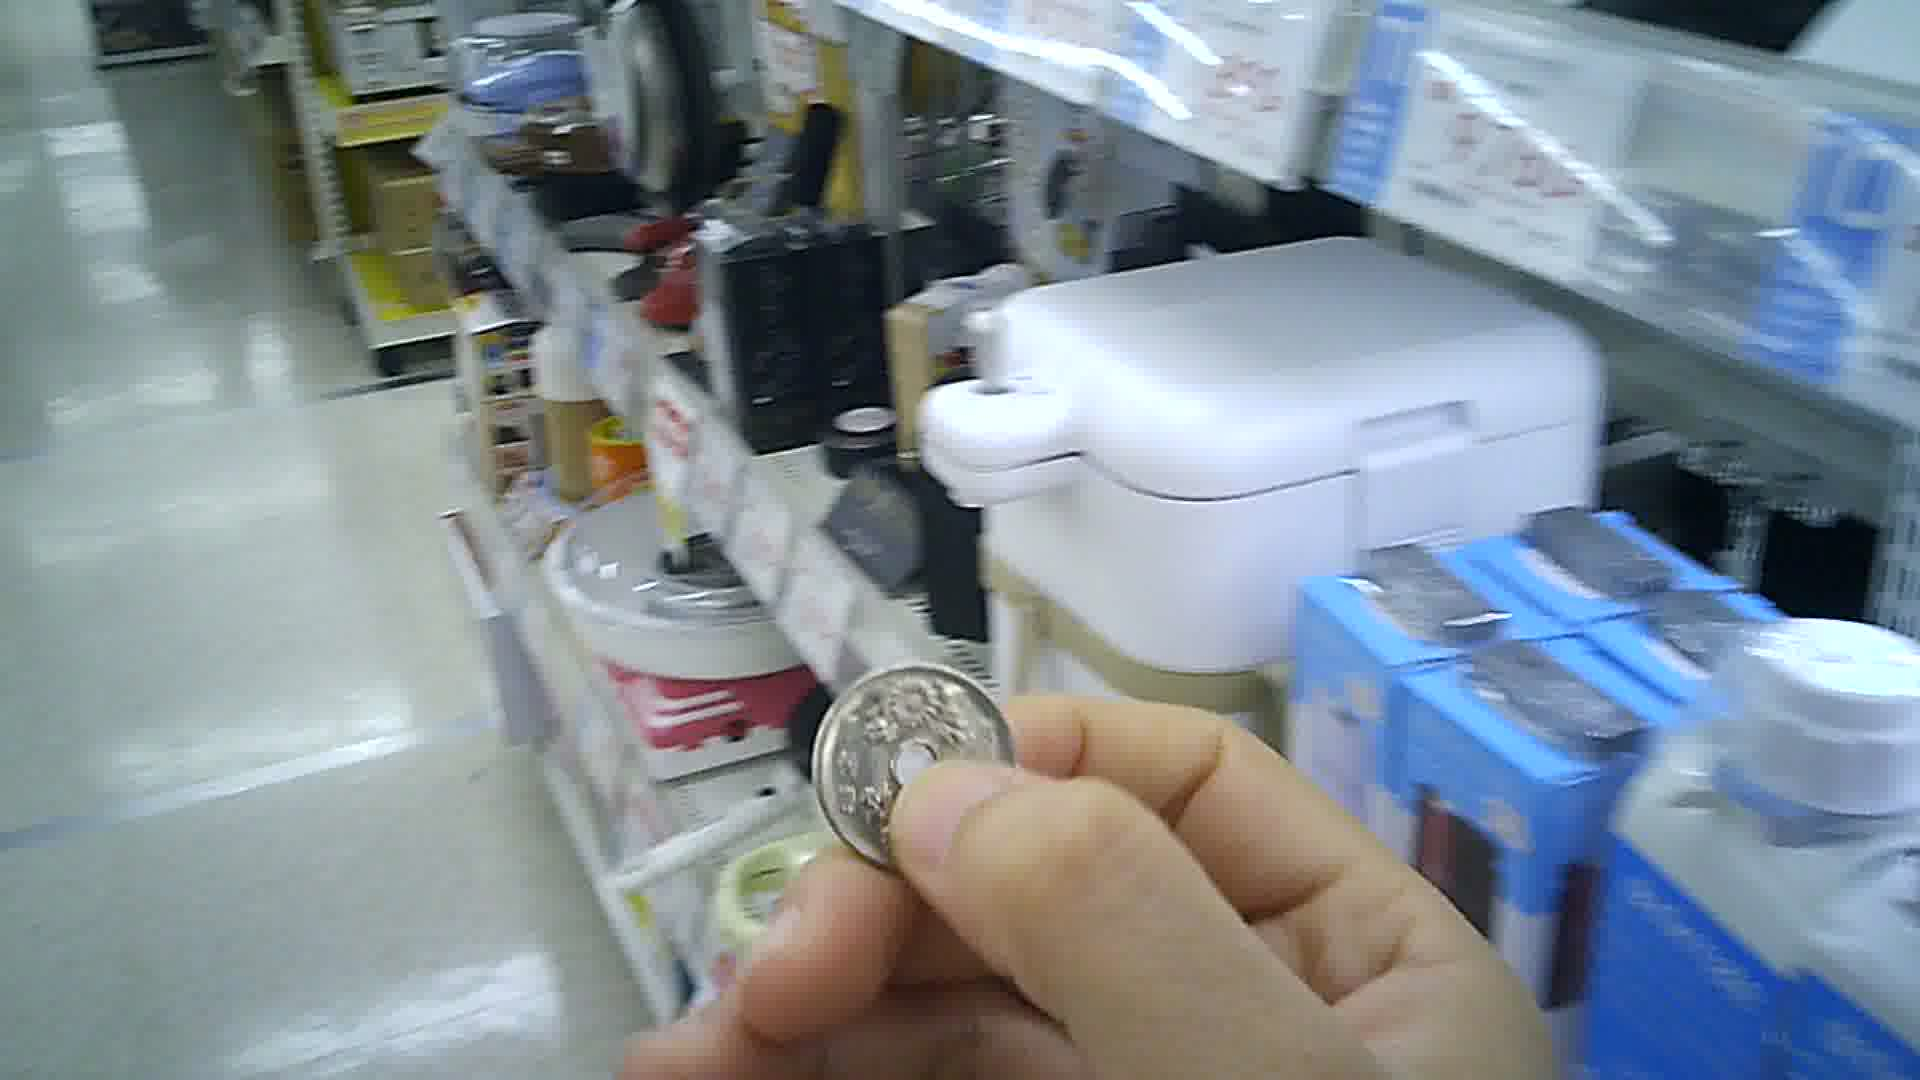50 Yen: (811, 659, 1025, 882)
